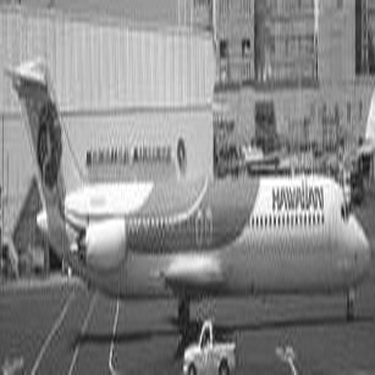airplane: (3, 54, 370, 334)
